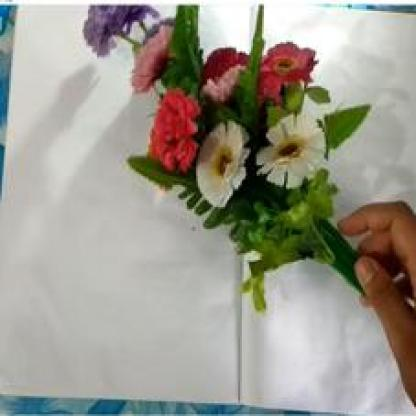flower: (70, 8, 372, 310)
